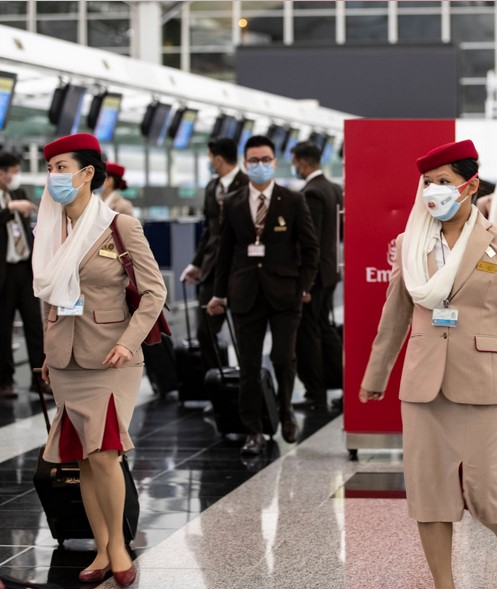face_with_mask: (416, 141, 480, 221), (39, 133, 103, 212), (244, 136, 278, 184), (1, 151, 29, 196)
